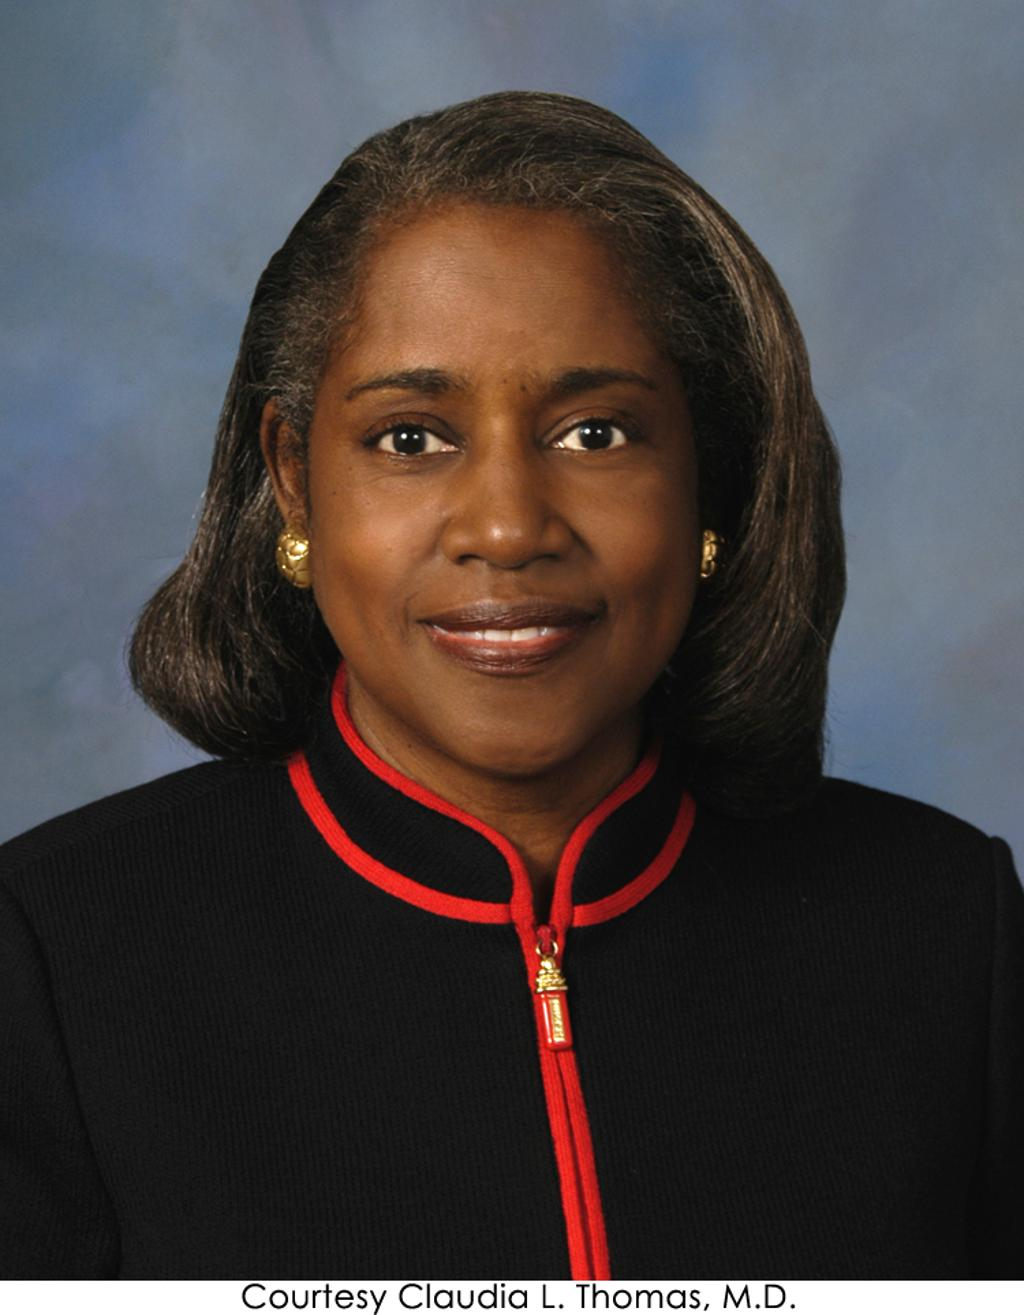face: (321, 234, 714, 768)
